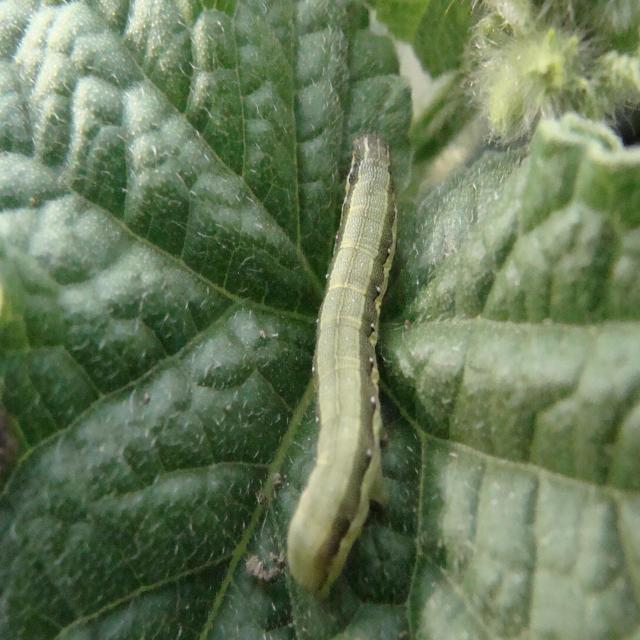BeetArmyWorm-Larva-: (282, 125, 410, 597)
